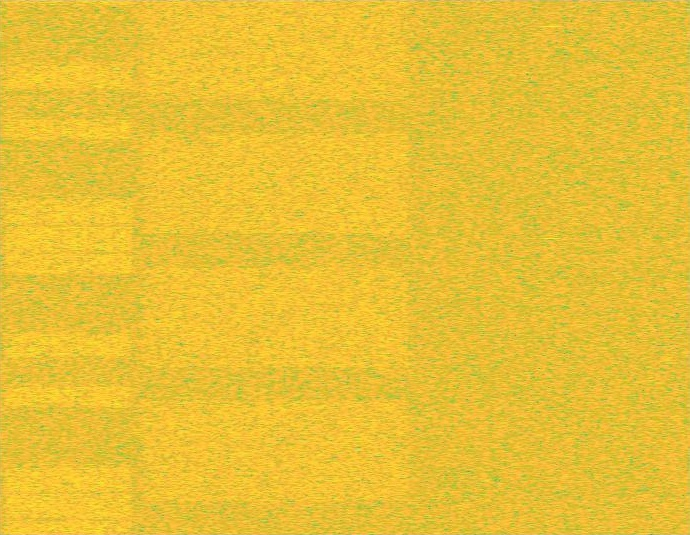5G: (138, 0, 414, 534)
LTE: (0, 0, 138, 534)
Radar: (545, 0, 558, 534)
